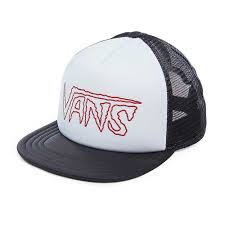vans: (63, 83, 143, 136)
